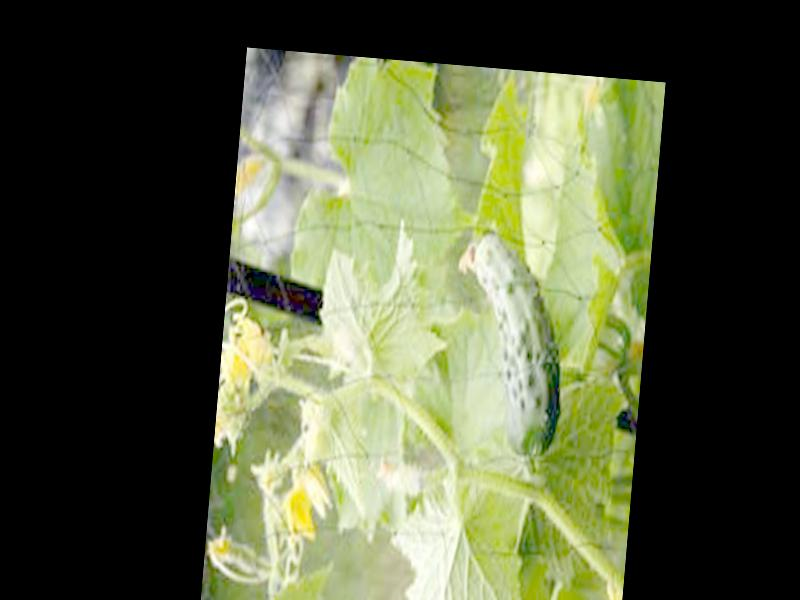Cucumber: (441, 228, 573, 464)
